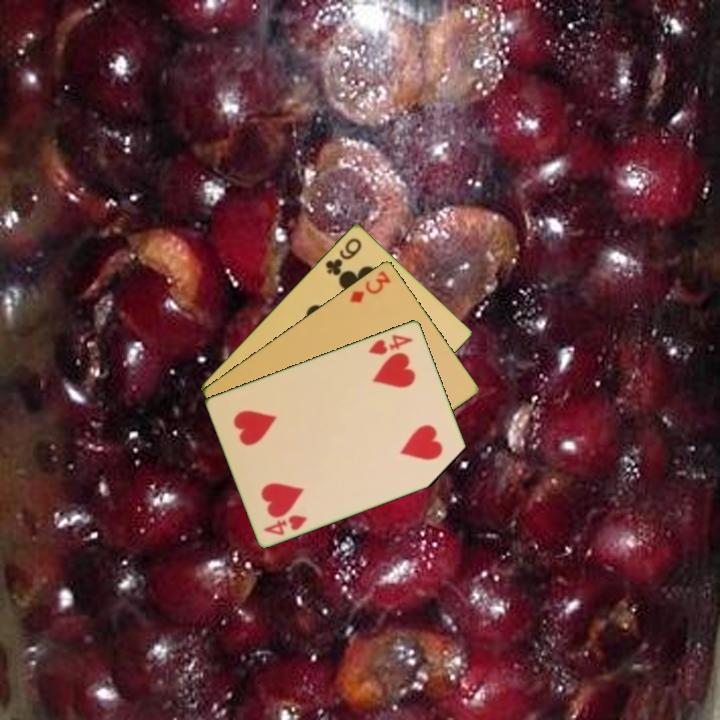3d: (346, 267, 393, 306)
4h: (364, 330, 416, 358), (260, 511, 310, 538)
9c: (322, 234, 365, 278)
